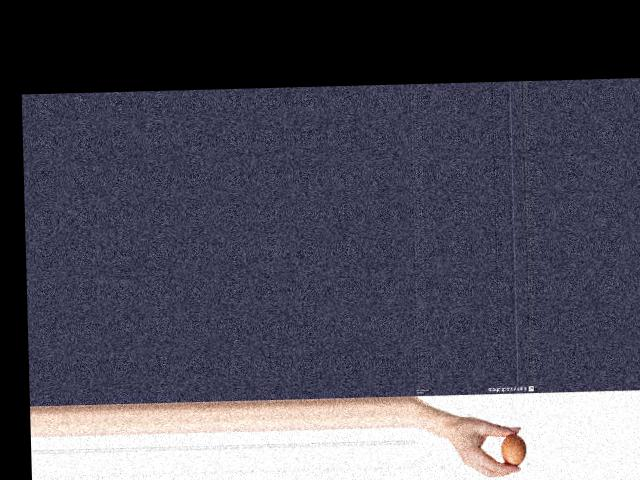egg: (499, 434, 525, 465)
